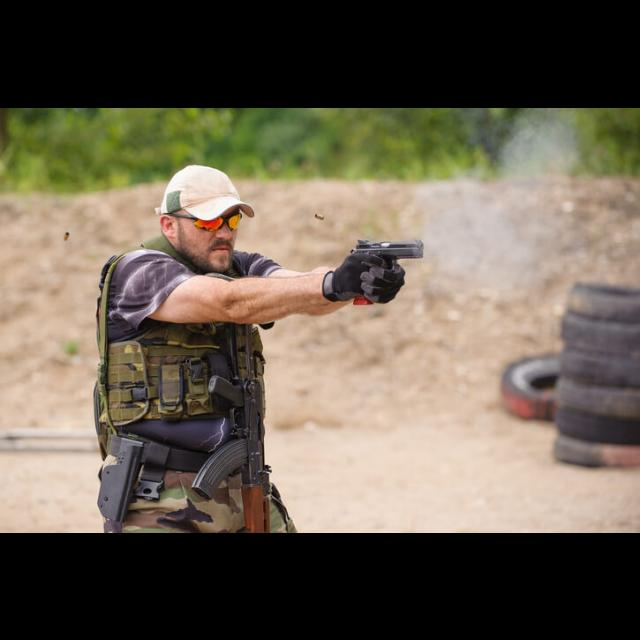handgun: (350, 234, 428, 272)
